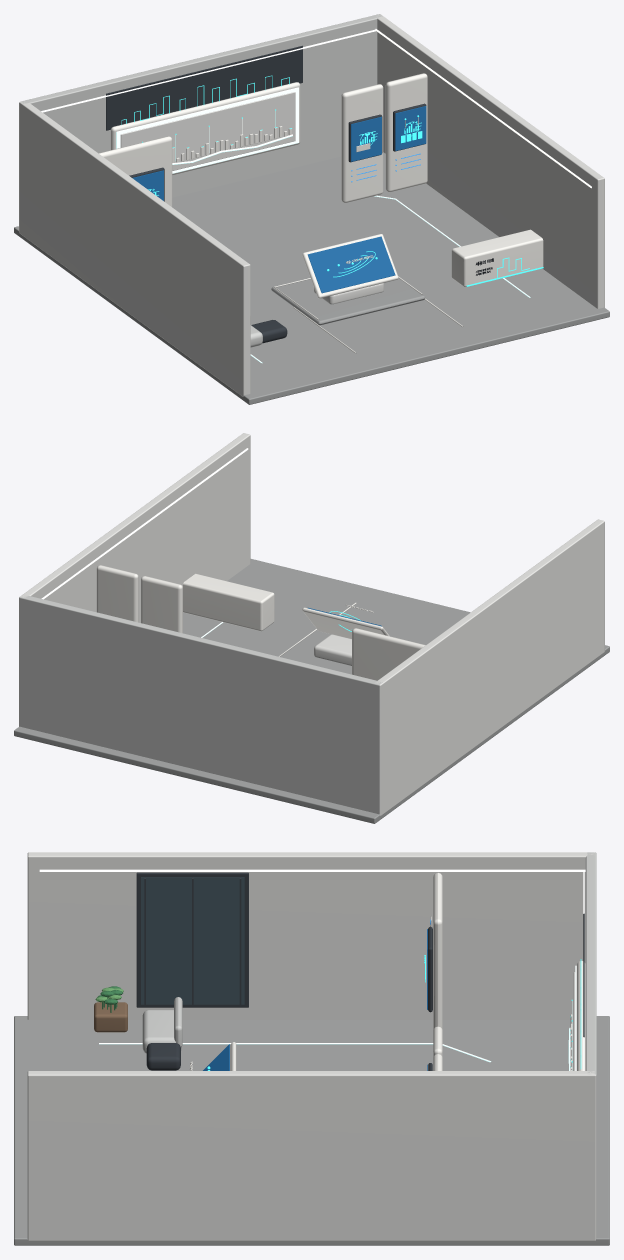
Rendered from sejong-smartcity-exhibition-CId6zfkB.glb.
3 renders of one model, top to bottom at view 1: azimuth 30°, elevation 25°; view 2: azimuth 150°, elevation 25°; view 3: azimuth 270°, elevation 25°, orthographic. The views are drawn at different scales.
Parts seen in each view (by area): view 1: Exhibition_Floor, Left_Wall, Right_Wall, Back_Wall, Main_Title_Backdrop, Future_Map_Surface, Future_Counter, Energy_Wall, Mobility_Wall, Central_Table_Screen, Central_Table_Platform, AI_Exhibit_Wall (+9 smaller); view 2: Back_Wall, Left_Wall, Right_Wall, Exhibition_Floor, Future_Counter, AI_Exhibit_Wall, Energy_Wall, Mobility_Wall, Central_Table_Frame, Central_Table_Platform, Central_Table_Base, Right_Cove_Light; view 3: Right_Wall, Left_Wall, Exhibition_Floor, Left_Window_Frame, Left_Window_Glass, Back_Wall, Left_Cove_Light, AI_Exhibit_Wall, Lounge_Sofa_Left, Future_Map_Frame, Planter, Lounge_Ottoman (+1 smaller).
Part boxes in pixels (bbox=[...]): Exhibition_Floor: bbox=[14, 152, 609, 404]; Left_Wall: bbox=[19, 101, 250, 396]; Right_Wall: bbox=[375, 14, 604, 308]; Back_Wall: bbox=[20, 14, 382, 197]; Main_Title_Backdrop: bbox=[106, 45, 302, 130]; Future_Map_Surface: bbox=[120, 92, 295, 170]; Future_Counter: bbox=[451, 229, 543, 287]; Energy_Wall: bbox=[385, 73, 427, 192]; Mobility_Wall: bbox=[341, 84, 383, 202]; Central_Table_Screen: bbox=[307, 236, 395, 293]; Central_Table_Platform: bbox=[271, 278, 425, 325]; AI_Exhibit_Wall: bbox=[99, 136, 172, 206]; Back_Wall: bbox=[19, 596, 382, 814]; Left_Wall: bbox=[375, 519, 604, 815]; Right_Wall: bbox=[19, 433, 250, 726]; Exhibition_Floor: bbox=[14, 559, 609, 823]; Future_Counter: bbox=[183, 573, 274, 631]; AI_Exhibit_Wall: bbox=[352, 628, 425, 680]; Energy_Wall: bbox=[96, 565, 138, 622]; Mobility_Wall: bbox=[141, 576, 182, 633]; Central_Table_Frame: bbox=[302, 607, 389, 638]; Central_Table_Platform: bbox=[280, 630, 351, 674]; Central_Table_Base: bbox=[314, 634, 351, 665]; Right_Cove_Light: bbox=[41, 448, 248, 599]; Right_Wall: bbox=[27, 1071, 596, 1241]; Left_Wall: bbox=[27, 852, 594, 1019]; Exhibition_Floor: bbox=[14, 1016, 609, 1245]; Left_Window_Frame: bbox=[136, 872, 248, 1007]; Left_Window_Glass: bbox=[141, 877, 244, 1004]; Back_Wall: bbox=[585, 852, 596, 1237]; Left_Cove_Light: bbox=[39, 869, 585, 871]; AI_Exhibit_Wall: bbox=[433, 872, 442, 1029]; Lounge_Sofa_Left: bbox=[142, 1010, 181, 1053]; Future_Map_Frame: bbox=[577, 960, 585, 1070]; Planter: bbox=[94, 1002, 127, 1032]; Lounge_Ottoman: bbox=[146, 1043, 180, 1070].
Size of the model in its own units: 31.04 by 11.1 by 35.
